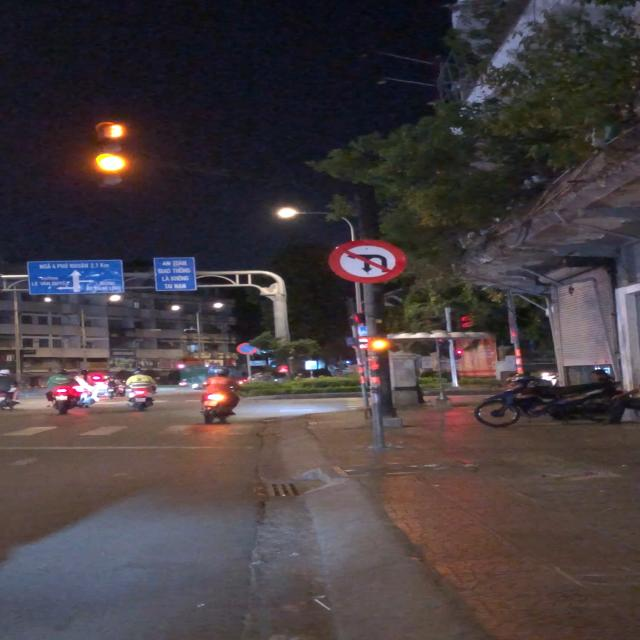Bien bao cam re trai va quay dau: (329, 238, 408, 284)
